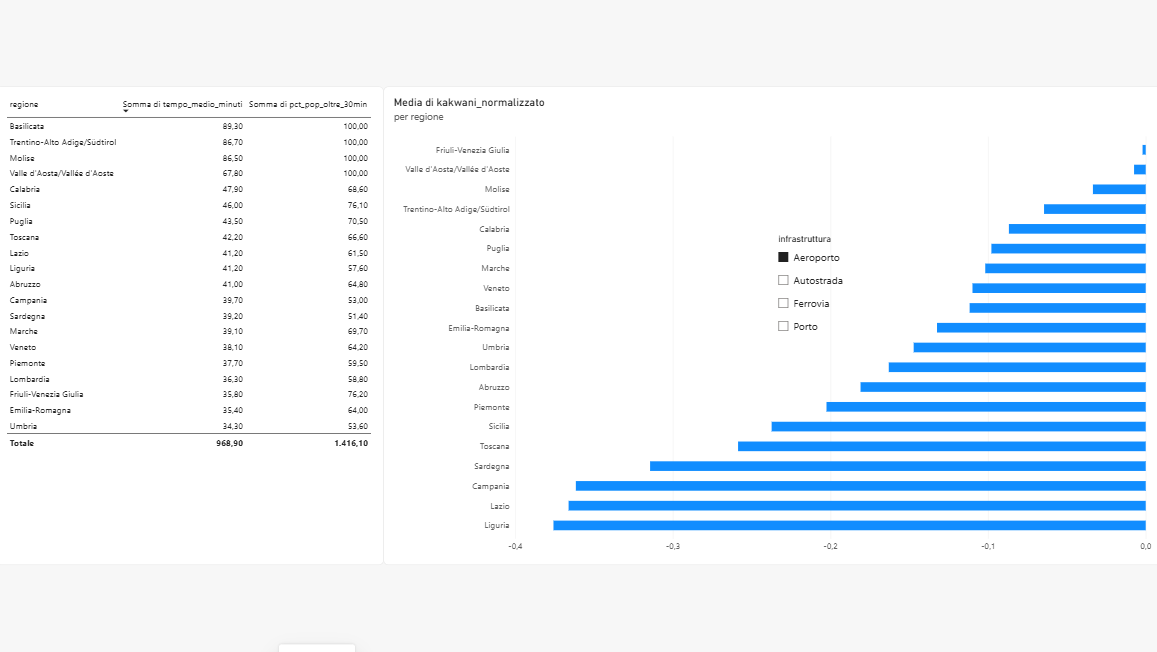

Layout of this report page (visuals, bound fields, positions):
{"tool":"powerbi","page":{"name":"Pagina 2","canvas":[1920,1080],"ordinal":1},"visuals":[{"type":"clusteredBarChart","fields":{"Category":["Regioni.regione"],"Y":["Avg(Regioni.kakwani_normalizzato)"]},"box":[638.1,144.1,1282.3,788.3],"z":1000},{"type":"tableEx","fields":{"Values":["Regioni.regione","Sum(Regioni.tempo_medio_minuti)","Sum(Regioni.pct_pop_oltre_30min)"]},"box":[0,144.1,638.1,788.3],"z":2000},{"type":"slicer","fields":{"Values":["Regioni.infrastruttura"]},"box":[1280.3,387,640.1,207.9],"z":2001}]}

Visuals, with their boxes in screenshot pixels (x1, y1, x2, y2), scaled from the page's 1920x1080 canvas onto the 1157x652 screenshot:
clusteredBarChart - Regioni.regione x Avg(Regioni.kakwani_normalizzato): <region>385, 87, 1156, 563</region>
tableEx - Regioni.regione x Sum(Regioni.tempo_medio_minuti): <region>0, 87, 385, 563</region>
slicer - Regioni.infrastruttura: <region>772, 234, 1156, 359</region>
